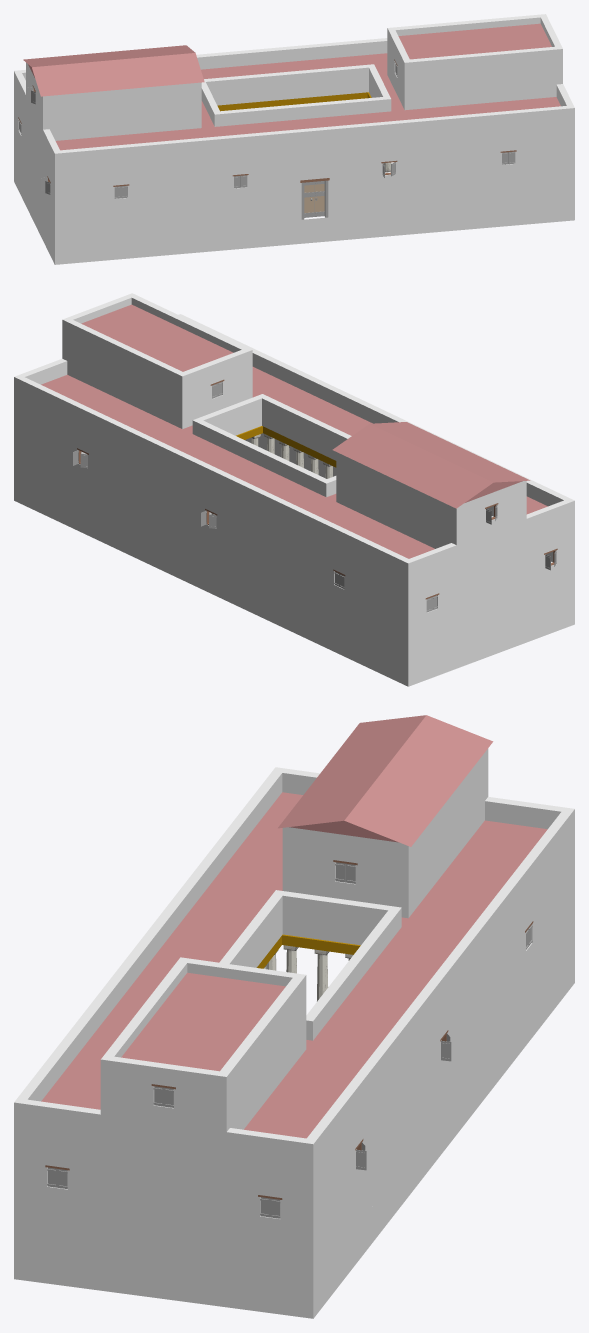
Rendered from LOD_Block_0_6.glb.
3 views of the same model, one above another, from view 1: azimuth 30°, elevation 25°; view 2: azimuth 150°, elevation 25°; view 3: azimuth 270°, elevation 25° (orthographic). The views are drawn at different scales.
Parts seen in each view (by area): view 1: _1.840; view 2: _1.840; view 3: _1.840.
Boxes of the visible parts, x1,y1,x2,y2 form: _1.840: (14,14,574,264); _1.840: (14,293,574,686); _1.840: (14,715,574,1318).
Bounding box in the file's own units: 41.75 × 12.8 × 26.25.
21 materials, 2 textured.
